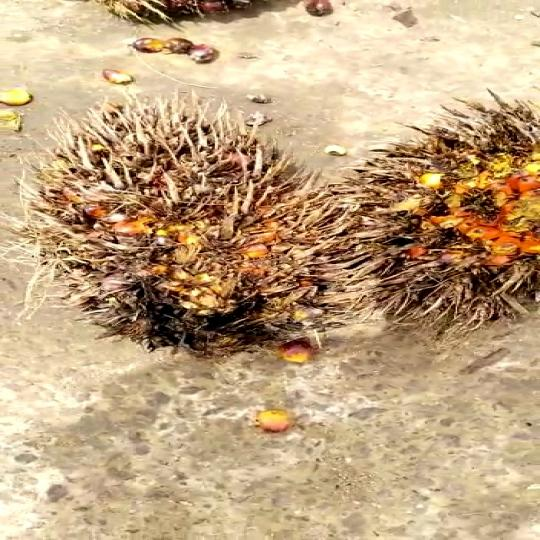terlalu masak: (17, 112, 340, 361)
